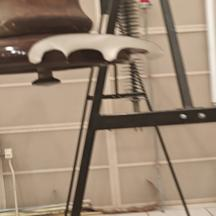insulator: (0, 0, 165, 74)
